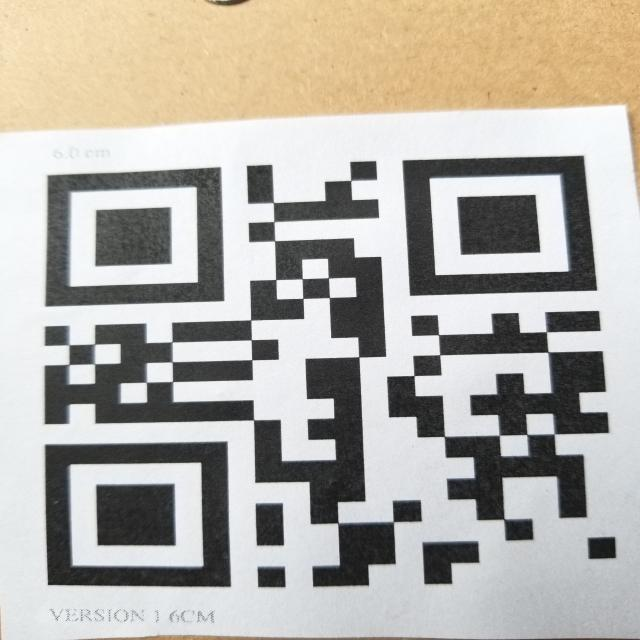QRCode: (18, 133, 631, 603)
